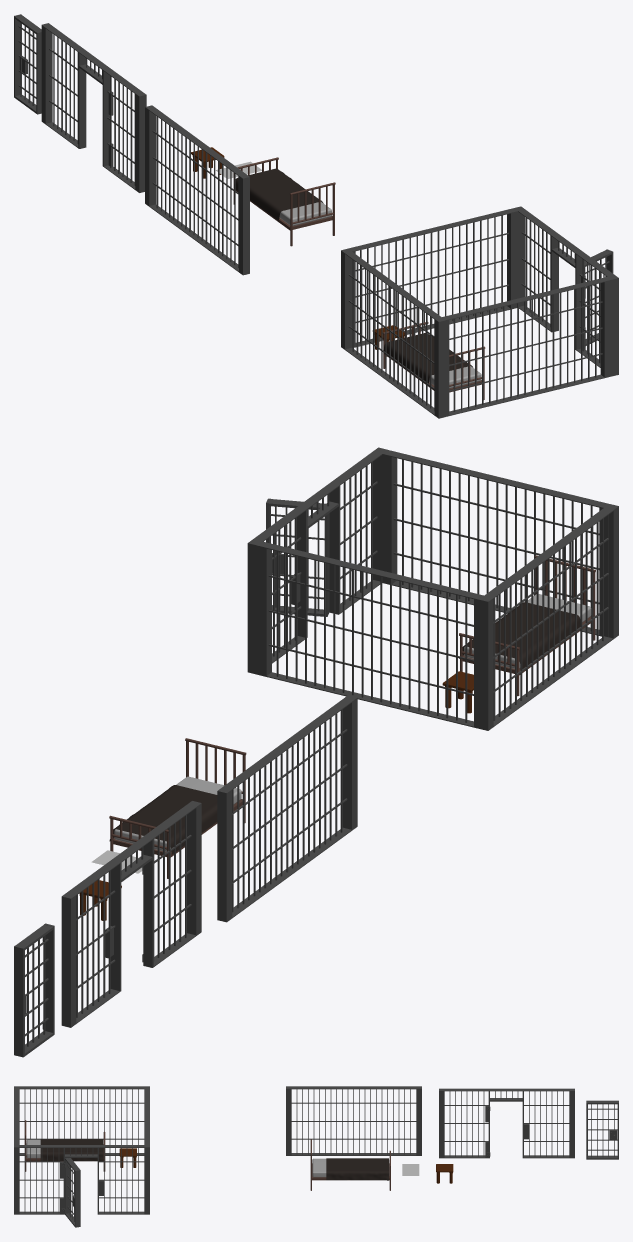
The model's file is maya2sketchfab.fbx.
The picture shows the model from 3 angles, top to bottom: view 1: azimuth 30°, elevation 25°; view 2: azimuth 150°, elevation 25°; view 3: azimuth 270°, elevation 25°; orthographic projection. The views are drawn at different scales.
Parts seen in each view (by area): view 1: CellSide1, CellSide2, CellSide3, BarswDoorHole1, CellSide, BarswDoorHole, PrisonBed1, PrisonBed, CellDoor1, CellDoor; view 2: CellSide, BarswDoorHole1, CellSide3, CellSide2, CellSide1, BarswDoorHole, PrisonBed1, PrisonBed, CellDoor1, CellDoor; view 3: CellSide3, BarswDoorHole, BarswDoorHole1, CellSide2, PrisonBed1, PrisonBed, CellDoor1, CellDoor, CellSide1, CellSide, Sandalye1, Sandalye (+1 smaller).
Boxes of the visible parts, bbox=[...] form: CellSide1: bbox=[439, 276, 611, 416]; CellSide2: bbox=[341, 249, 445, 418]; CellSide3: bbox=[145, 105, 249, 275]; BarswDoorHole1: bbox=[41, 23, 146, 192]; CellSide: bbox=[345, 208, 517, 347]; BarswDoorHole: bbox=[514, 206, 618, 376]; PrisonBed1: bbox=[233, 157, 335, 246]; PrisonBed: bbox=[382, 322, 485, 399]; CellDoor1: bbox=[14, 14, 41, 114]; CellDoor: bbox=[584, 249, 613, 345]; CellSide: bbox=[257, 541, 488, 729]; BarswDoorHole1: bbox=[61, 801, 201, 1027]; CellSide3: bbox=[217, 695, 357, 922]; CellSide2: bbox=[479, 504, 618, 730]; CellSide1: bbox=[382, 450, 613, 637]; BarswDoorHole: bbox=[247, 447, 387, 674]; PrisonBed1: bbox=[109, 738, 246, 878]; PrisonBed: bbox=[459, 555, 595, 696]; CellDoor1: bbox=[14, 923, 54, 1057]; CellDoor: bbox=[266, 498, 329, 616]; CellSide3: bbox=[286, 1086, 421, 1155]; BarswDoorHole: bbox=[14, 1145, 149, 1214]; BarswDoorHole1: bbox=[439, 1088, 574, 1158]; CellSide2: bbox=[14, 1086, 149, 1155]; PrisonBed1: bbox=[310, 1139, 390, 1190]; PrisonBed: bbox=[24, 1120, 105, 1171]; CellDoor1: bbox=[586, 1100, 618, 1159]; CellDoor: bbox=[64, 1158, 80, 1227]; CellSide1: bbox=[14, 1087, 19, 1144]; CellSide: bbox=[144, 1088, 149, 1144]; Sandalye1: bbox=[436, 1164, 453, 1183]; Sandalye: bbox=[119, 1148, 136, 1167].
Size of the model in its own units: 61.89 by 26.18 by 213.
